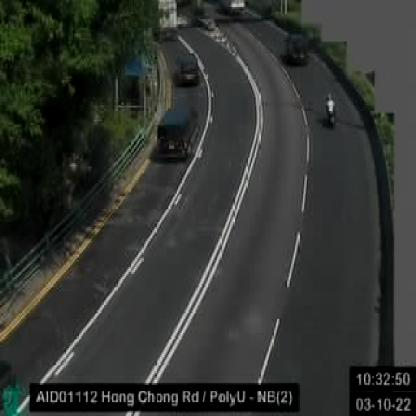Car: (169, 52, 198, 85), (285, 33, 308, 62)
Truck: (155, 96, 203, 160)
